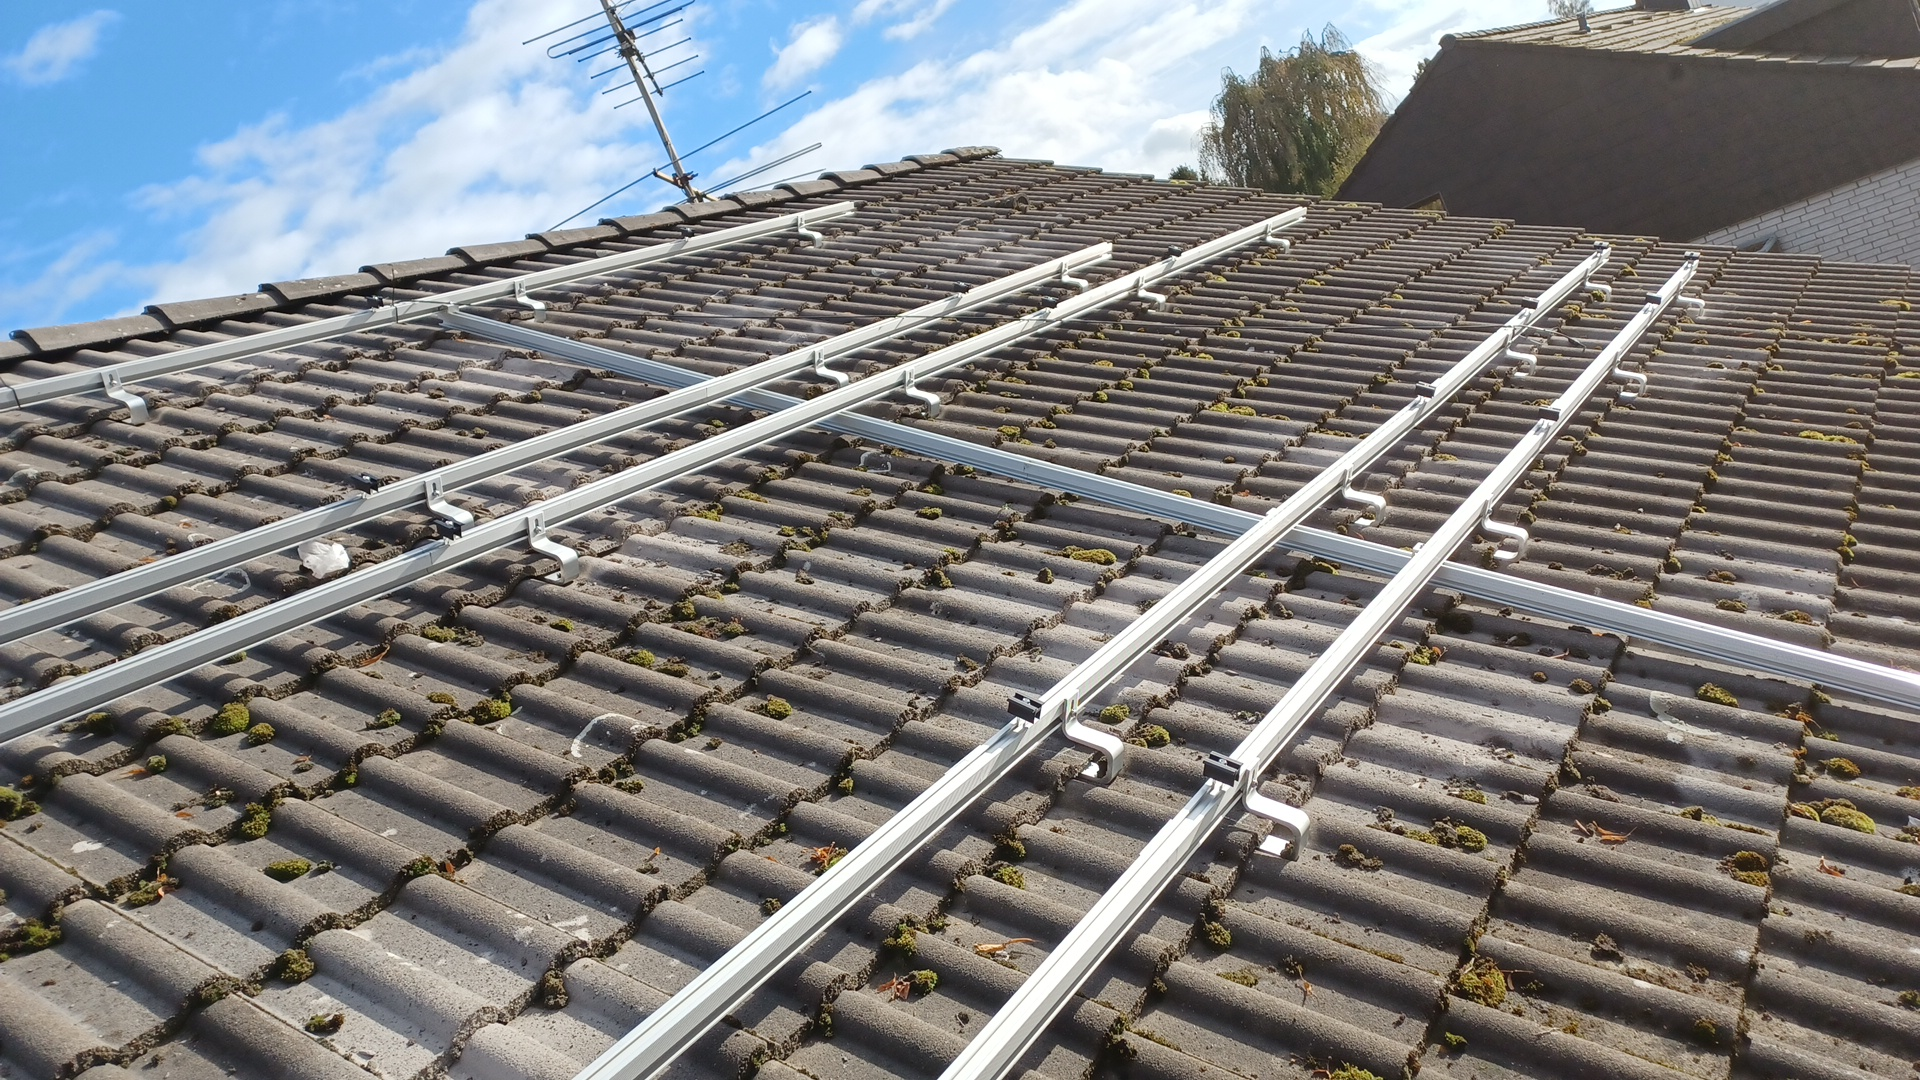hook: (1242, 757, 1309, 862), (1063, 688, 1124, 785), (525, 510, 578, 585), (1482, 493, 1528, 562), (425, 473, 473, 531), (1341, 464, 1386, 526), (100, 368, 148, 425), (905, 367, 940, 419), (1614, 349, 1648, 400), (814, 345, 851, 386), (1503, 334, 1538, 377), (514, 280, 546, 323), (1677, 280, 1705, 319), (1138, 274, 1166, 313), (1585, 266, 1611, 303), (796, 214, 823, 249), (1060, 261, 1088, 293), (1265, 222, 1290, 255)
